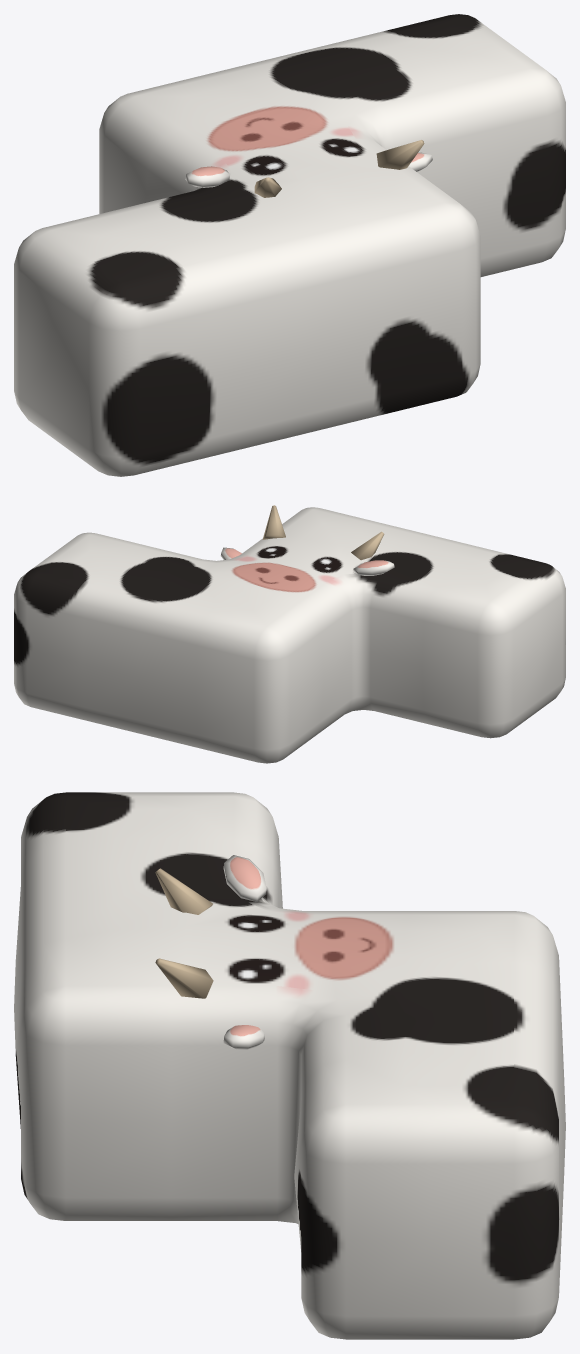
Rendered from Cow_S.fbx.
3 views of the same model, one above another, from view 1: azimuth 30°, elevation 25°; view 2: azimuth 150°, elevation 25°; view 3: azimuth 270°, elevation 25° (orthographic). The views are drawn at different scales.
Visible parts, largest first — view 1: Cow_S; view 2: Cow_S; view 3: Cow_S.
Part boxes in pixels (x1=…): Cow_S: x1=14, y1=14, x2=565, y2=476; Cow_S: x1=14, y1=505, x2=565, y2=763; Cow_S: x1=14, y1=792, x2=565, y2=1339.
Size of the model in its own units: 2.97 by 1.02 by 1.97.
1 material, 1 textured.
